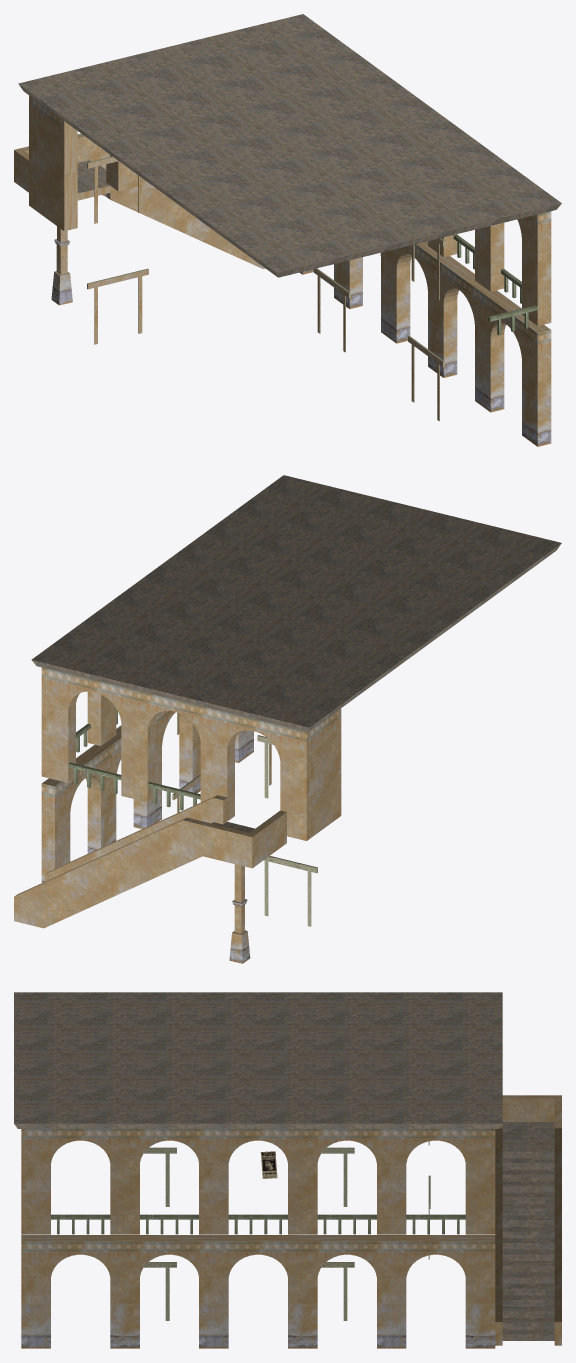
File: StaticMesh2.fbx
3 renders of one model, top to bottom at view 1: azimuth 30°, elevation 25°; view 2: azimuth 150°, elevation 25°; view 3: azimuth 270°, elevation 25°, orthographic. The views are drawn at different scales.
Visible parts, largest first — view 1: StaticMesh2; view 2: StaticMesh2; view 3: StaticMesh2.
Part boxes in pixels (box(x1,y1,x2,y2)): StaticMesh2: box(14, 14, 561, 446); StaticMesh2: box(14, 475, 561, 963); StaticMesh2: box(14, 992, 561, 1348).
Size of the model in its own units: 67200 by 54400 by 118400.
